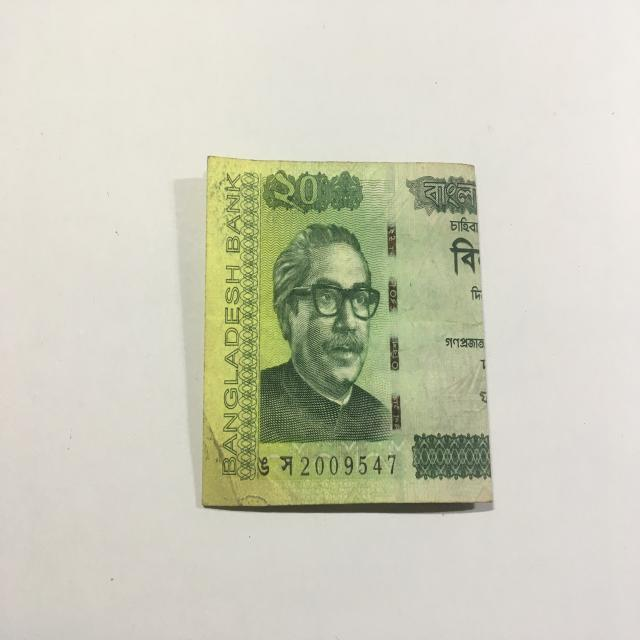Taka: (202, 149, 501, 525)
